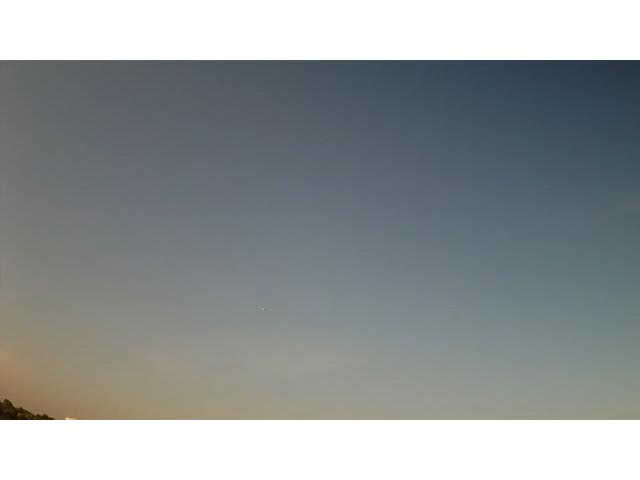Anti-Drone: (259, 302, 267, 314)
